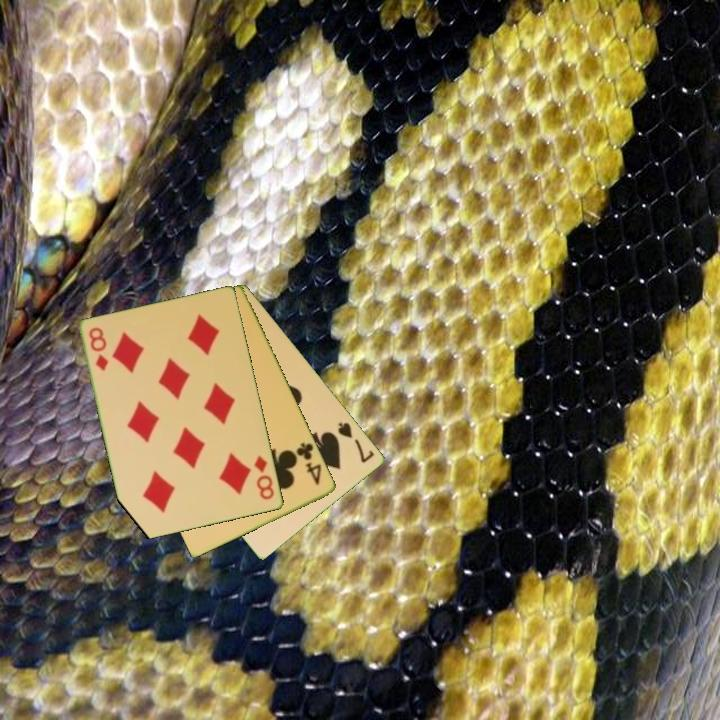4c: (293, 439, 325, 488)
7s: (334, 418, 378, 466)
8d: (251, 452, 277, 503), (86, 324, 112, 374)
